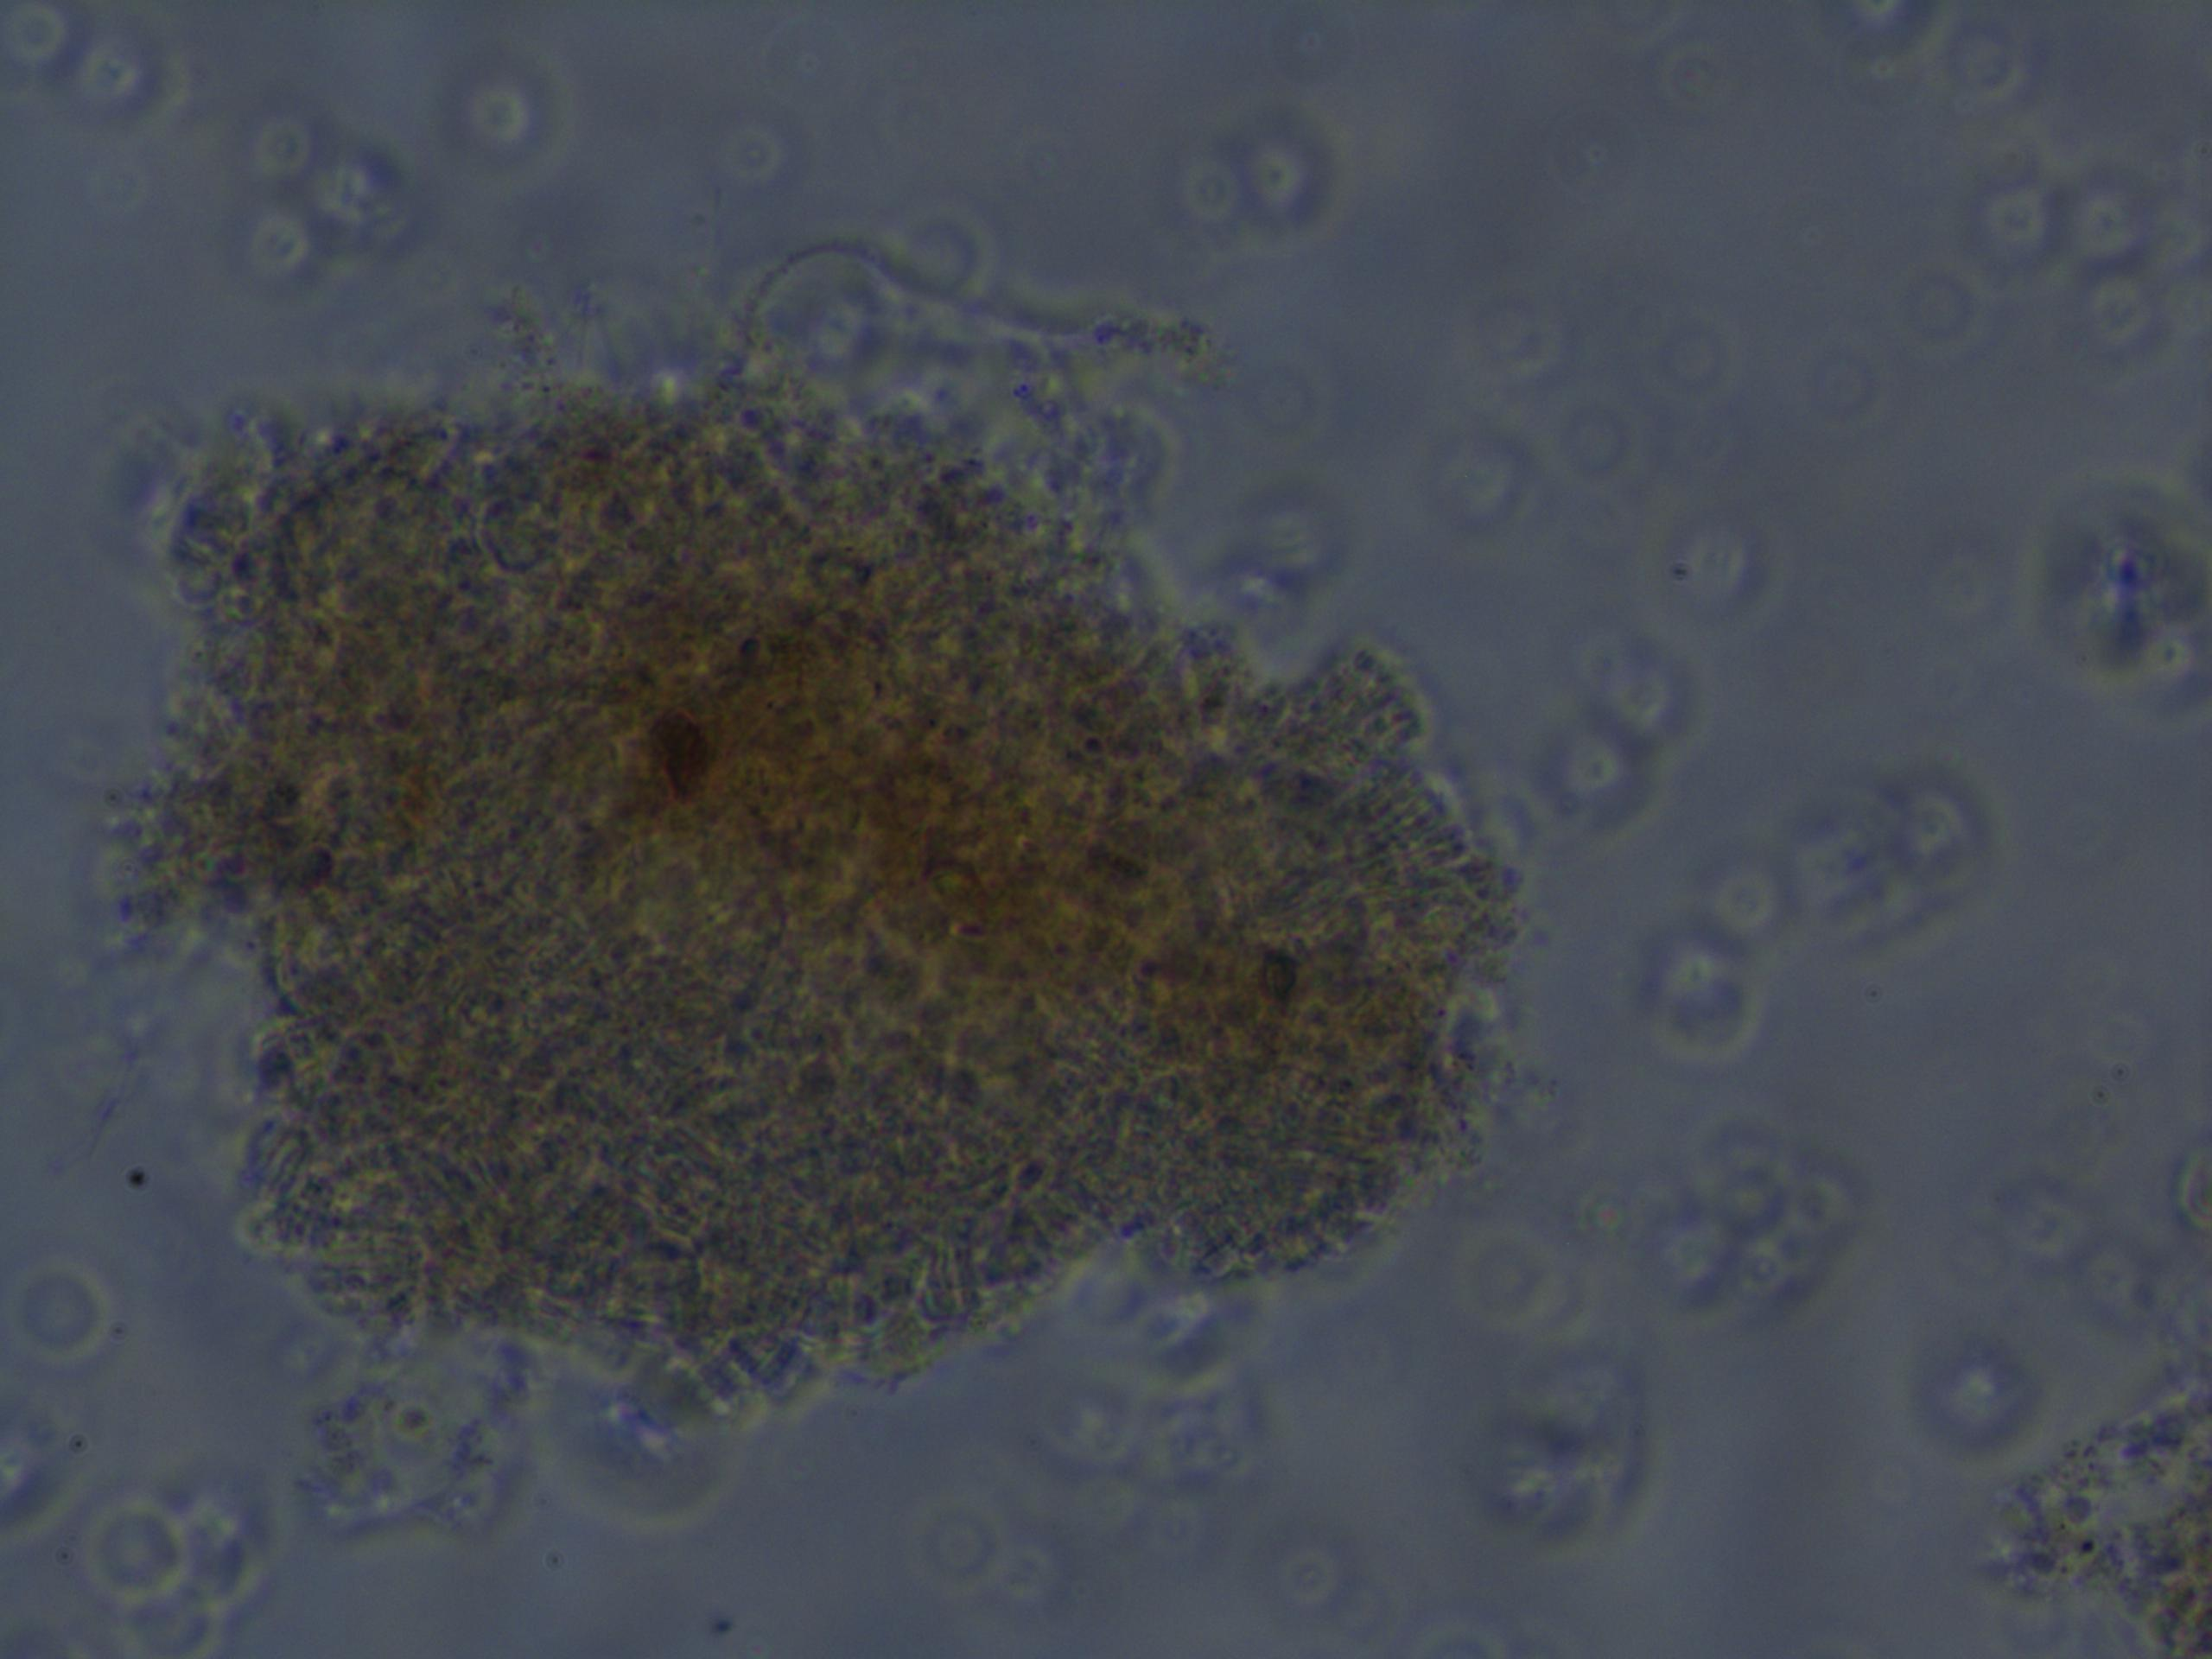spherical_floc: (125, 385, 1531, 1396)
